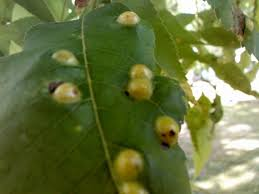Diseased_Leaves: (41, 38, 94, 133), (99, 144, 152, 194), (129, 66, 153, 100), (154, 116, 180, 146), (231, 5, 250, 39), (112, 7, 142, 28)
